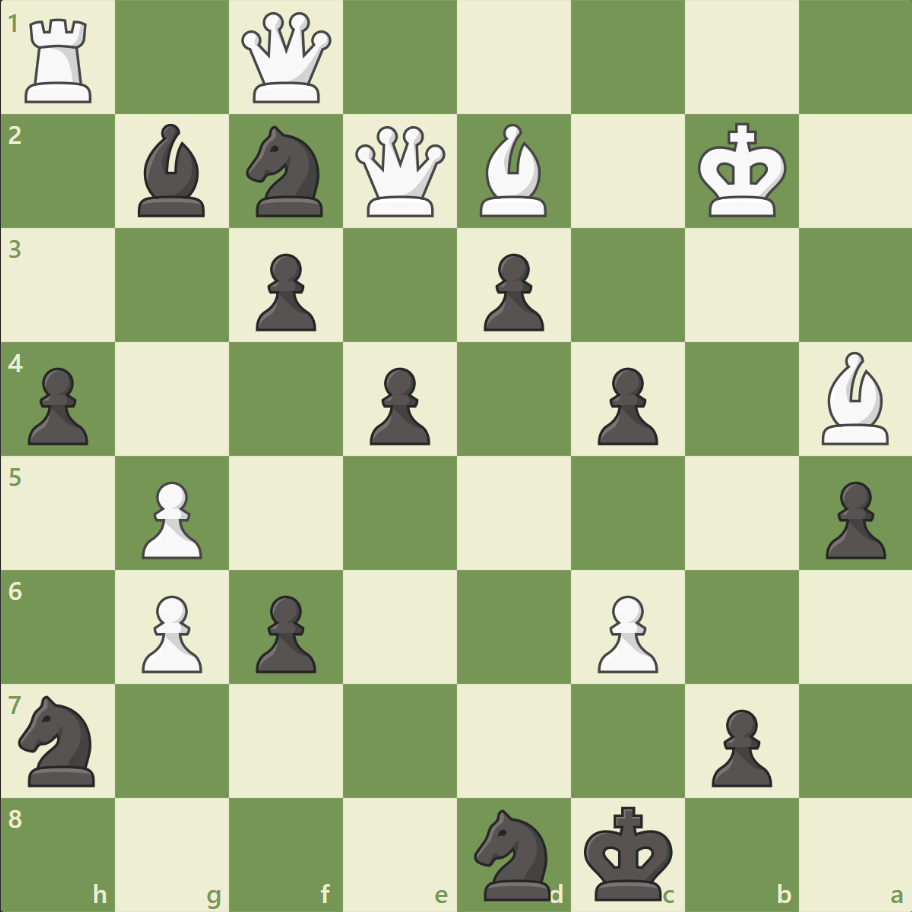B: (812, 347, 896, 449), (471, 120, 555, 222)
K: (692, 117, 792, 225)
P: (133, 586, 208, 677), (133, 473, 208, 564), (588, 586, 662, 677)
Q: (351, 122, 450, 222), (237, 9, 336, 108)
R: (19, 12, 102, 109)
b: (131, 120, 215, 222)
k: (579, 798, 679, 906)
n: (11, 688, 108, 791), (465, 802, 562, 904), (238, 121, 335, 223)
p: (701, 700, 776, 791), (247, 586, 322, 677), (20, 359, 95, 450), (474, 246, 549, 337), (247, 246, 322, 337), (815, 473, 889, 564), (588, 359, 662, 450), (361, 359, 435, 450)
